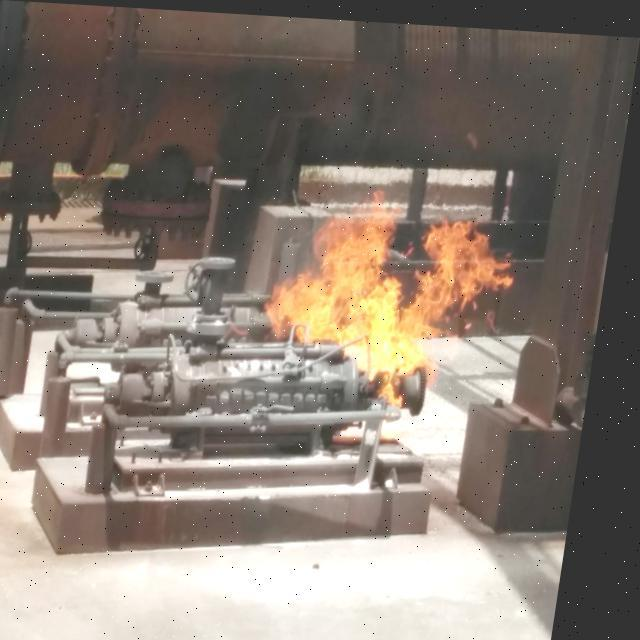Fire: (270, 190, 518, 420)
